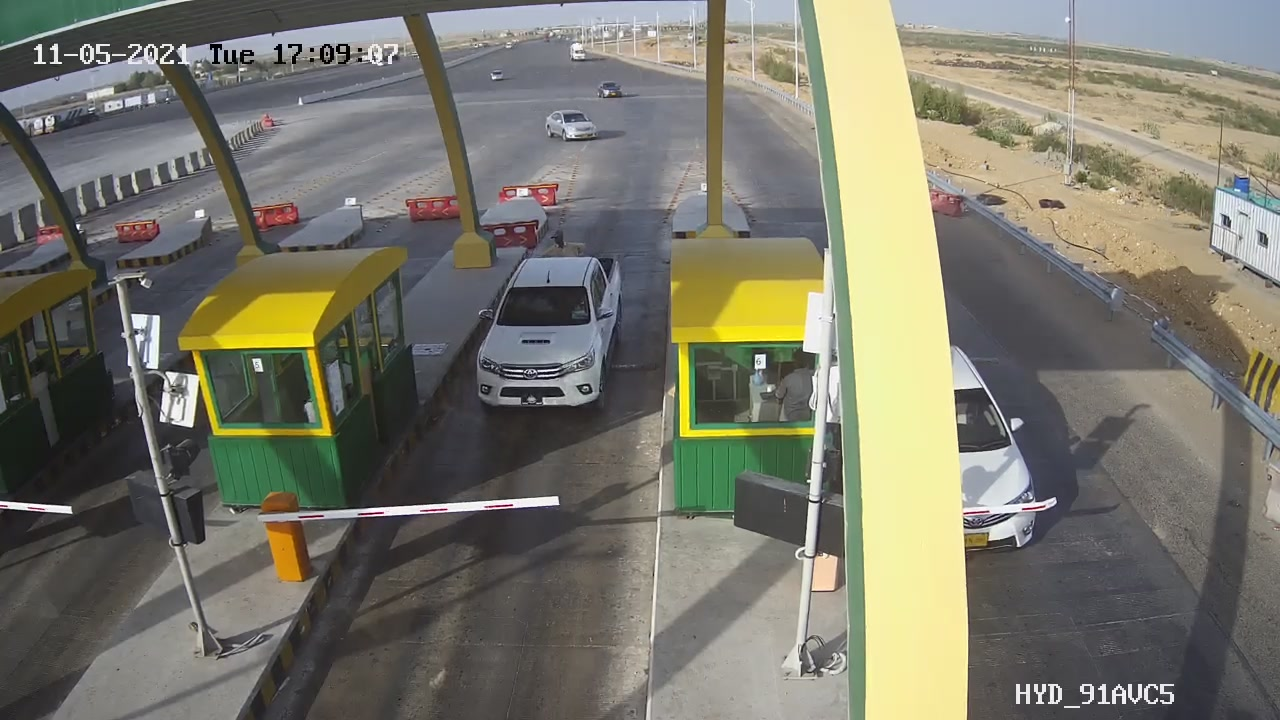F1: (451, 213, 648, 426)
